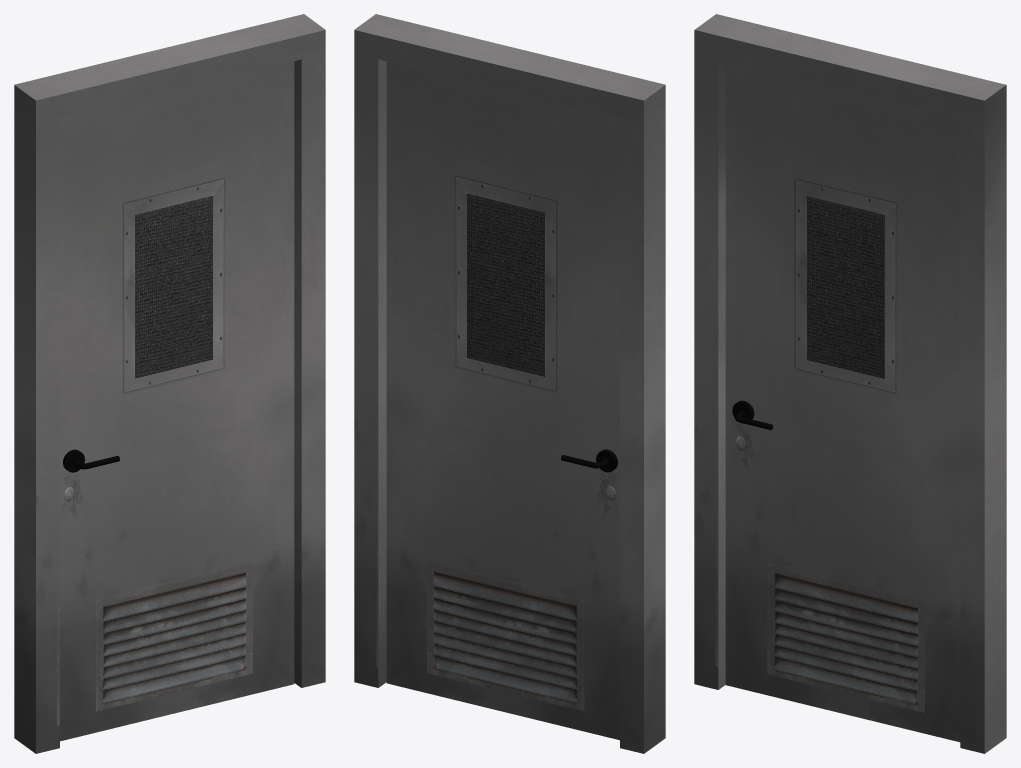
Rendered from Door.FBX.
3 views of the same model, side by side, from view 1: azimuth 30°, elevation 25°; view 2: azimuth 150°, elevation 25°; view 3: azimuth 330°, elevation 25° (orthographic).
Visible parts, largest first — view 1: Door, door frame; view 2: Door, door frame; view 3: Door, door frame.
Boxes of the visible parts, <box> form: Door: <box>60,61,294,741</box>; door frame: <box>14,14,325,753</box>; Door: <box>386,61,619,740</box>; door frame: <box>354,14,665,753</box>; Door: <box>725,61,960,742</box>; door frame: <box>694,14,1006,753</box>.
Bounding box in the file's own units: 96.56 × 208 × 16.78.
Materials: 1 (1 with a texture image).
